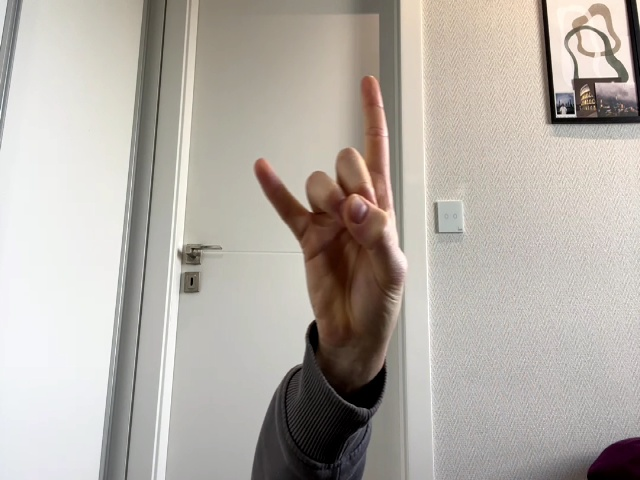Y: (254, 75, 407, 338)
